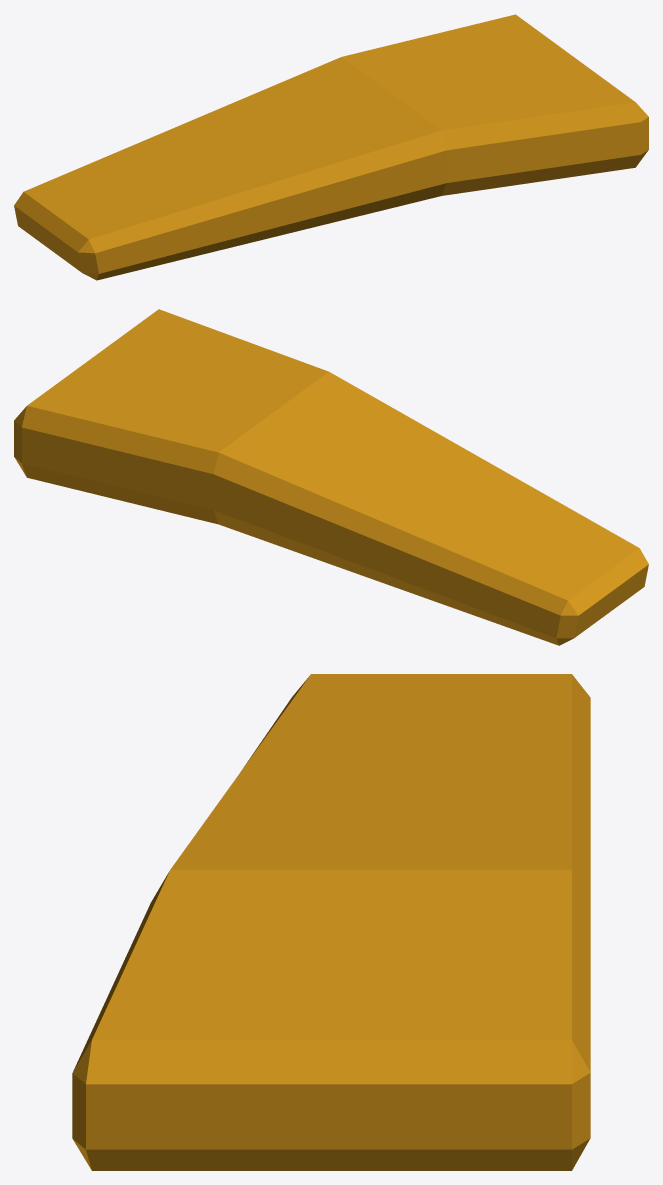
File: Personal_Vehicle_03_Wings_Right_Yellow.fbx
3 renders of one model, top to bottom at view 1: azimuth 30°, elevation 25°; view 2: azimuth 150°, elevation 25°; view 3: azimuth 270°, elevation 25°, orthographic. The views are drawn at different scales.
Visible parts, largest first — view 1: Personal_Vehicle_03_Wings_Right_Yellow; view 2: Personal_Vehicle_03_Wings_Right_Yellow; view 3: Personal_Vehicle_03_Wings_Right_Yellow.
Boxes of the visible parts, x1,y1,x2,y2 form: Personal_Vehicle_03_Wings_Right_Yellow: [14, 14, 648, 280]; Personal_Vehicle_03_Wings_Right_Yellow: [14, 309, 648, 645]; Personal_Vehicle_03_Wings_Right_Yellow: [72, 674, 590, 1170].
Size of the model in its own units: 76.65 by 14.31 by 33.49.
1 material, 1 textured.
